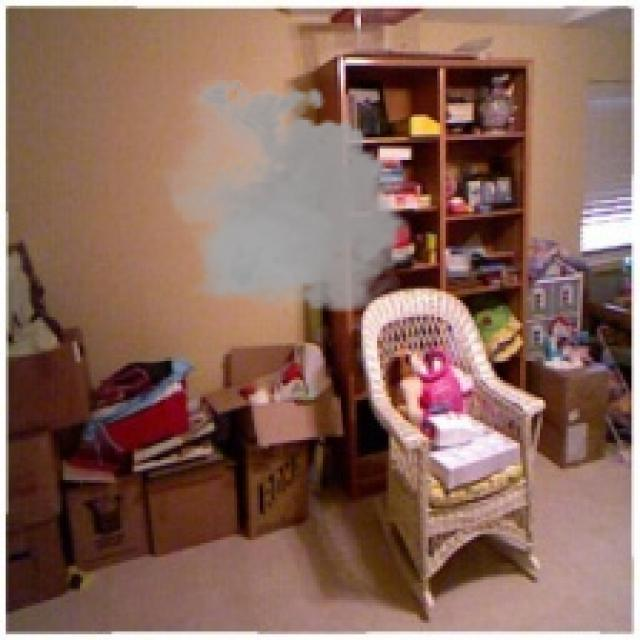Smoke: (154, 71, 420, 323)
